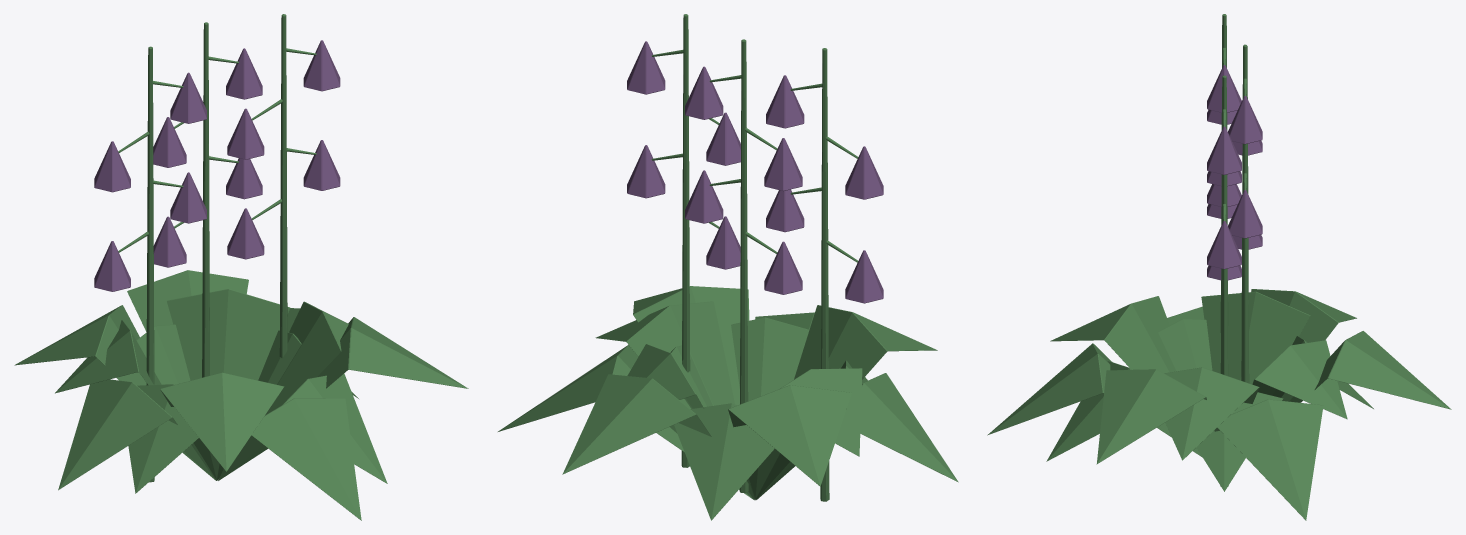
File: b08_flowering_hosta.glb
3 renders of one model, left to right at view 1: azimuth 30°, elevation 25°; view 2: azimuth 150°, elevation 25°; view 3: azimuth 270°, elevation 25°, orthographic. The views are drawn at different scales.
Parts seen in each view (by area): view 1: b08_flowering_hosta; view 2: b08_flowering_hosta; view 3: b08_flowering_hosta.
Boxes of the visible parts, left/top/right/bottom form: b08_flowering_hosta: left=14, top=14, right=468, bottom=520; b08_flowering_hosta: left=498, top=14, right=958, bottom=520; b08_flowering_hosta: left=987, top=14, right=1451, bottom=520.
Bounding box in the file's own units: 0.8023 × 0.9026 × 0.8928.
